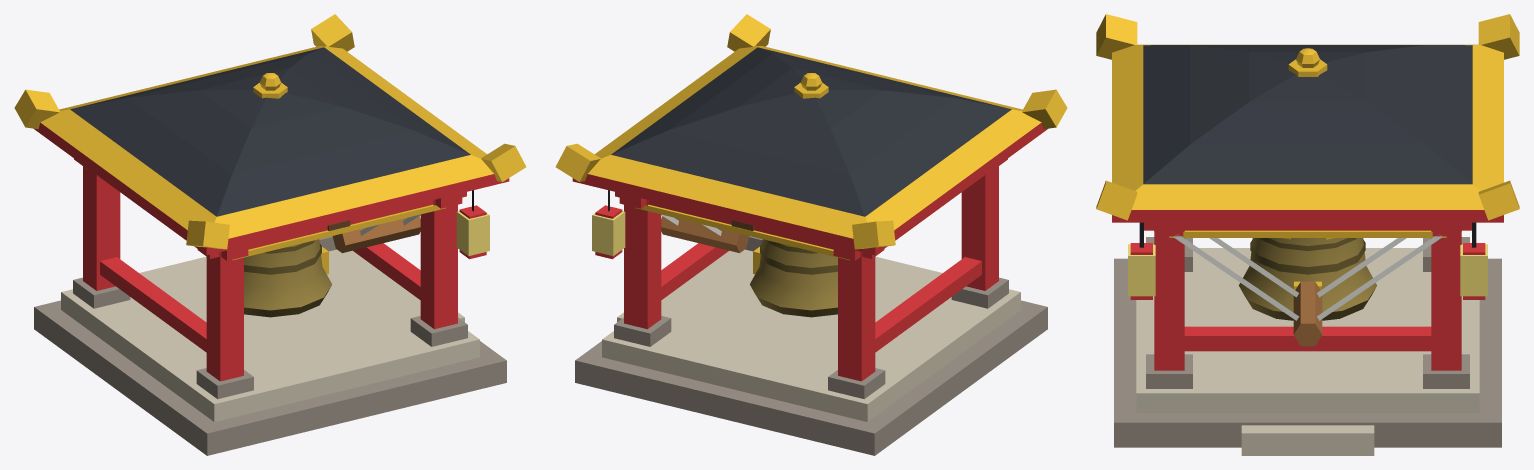
Rendered from temple_bell.glb.
The picture shows the model from 3 angles, left to right: view 1: azimuth 30°, elevation 25°; view 2: azimuth 150°, elevation 25°; view 3: azimuth 270°, elevation 25°; orthographic projection. The views are drawn at different scales.
Parts seen in each view (by area): view 1: Body; view 2: Body; view 3: Body.
Boxes of the visible parts, bbox=[...] form: Body: bbox=[14, 14, 526, 455]; Body: bbox=[555, 14, 1067, 455]; Body: bbox=[1096, 14, 1519, 455].
Bounding box in the file's own units: 0.7697 × 0.632 × 0.7635.
